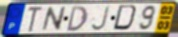9: (138, 5, 157, 31)
D: (112, 5, 140, 33), (66, 6, 89, 33)
J: (90, 5, 111, 32)
N: (40, 6, 68, 33)
T: (27, 6, 44, 33)
